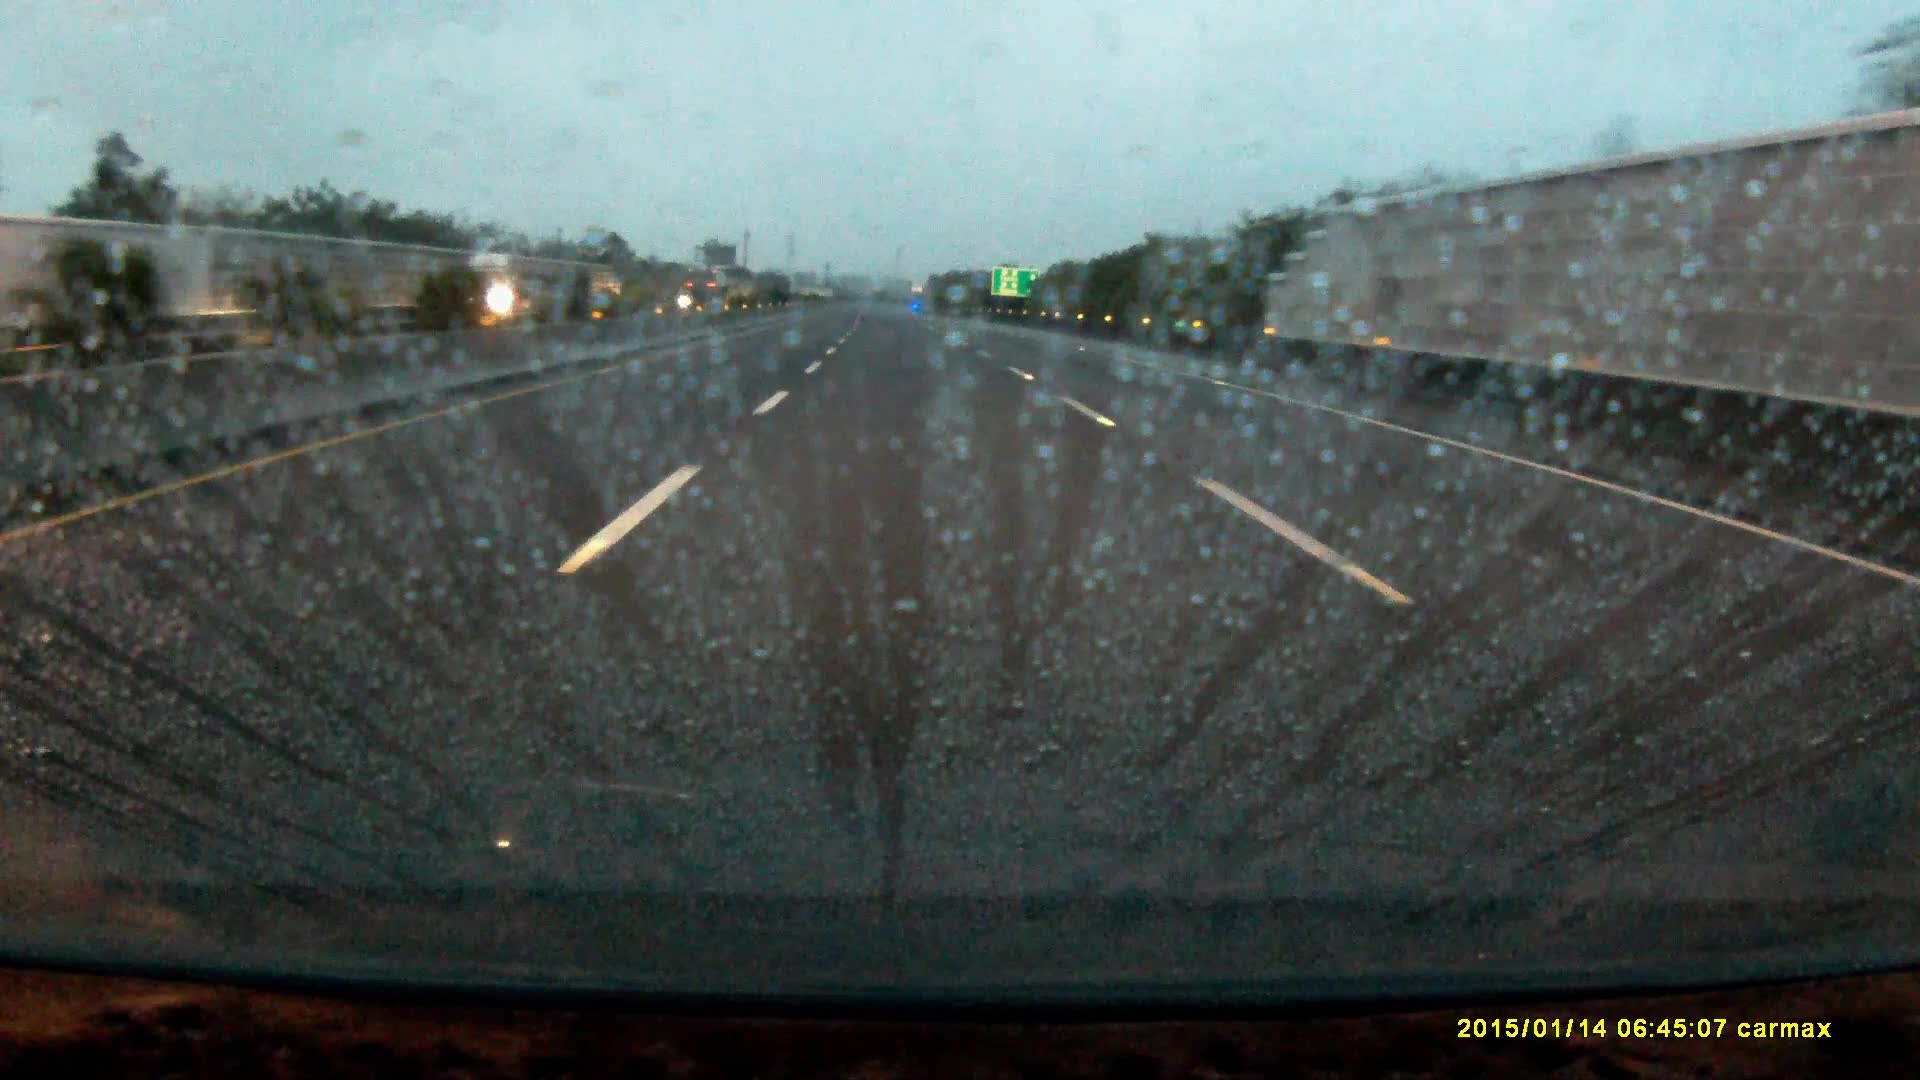vehicle: (464, 252, 555, 324), (687, 274, 731, 313)
